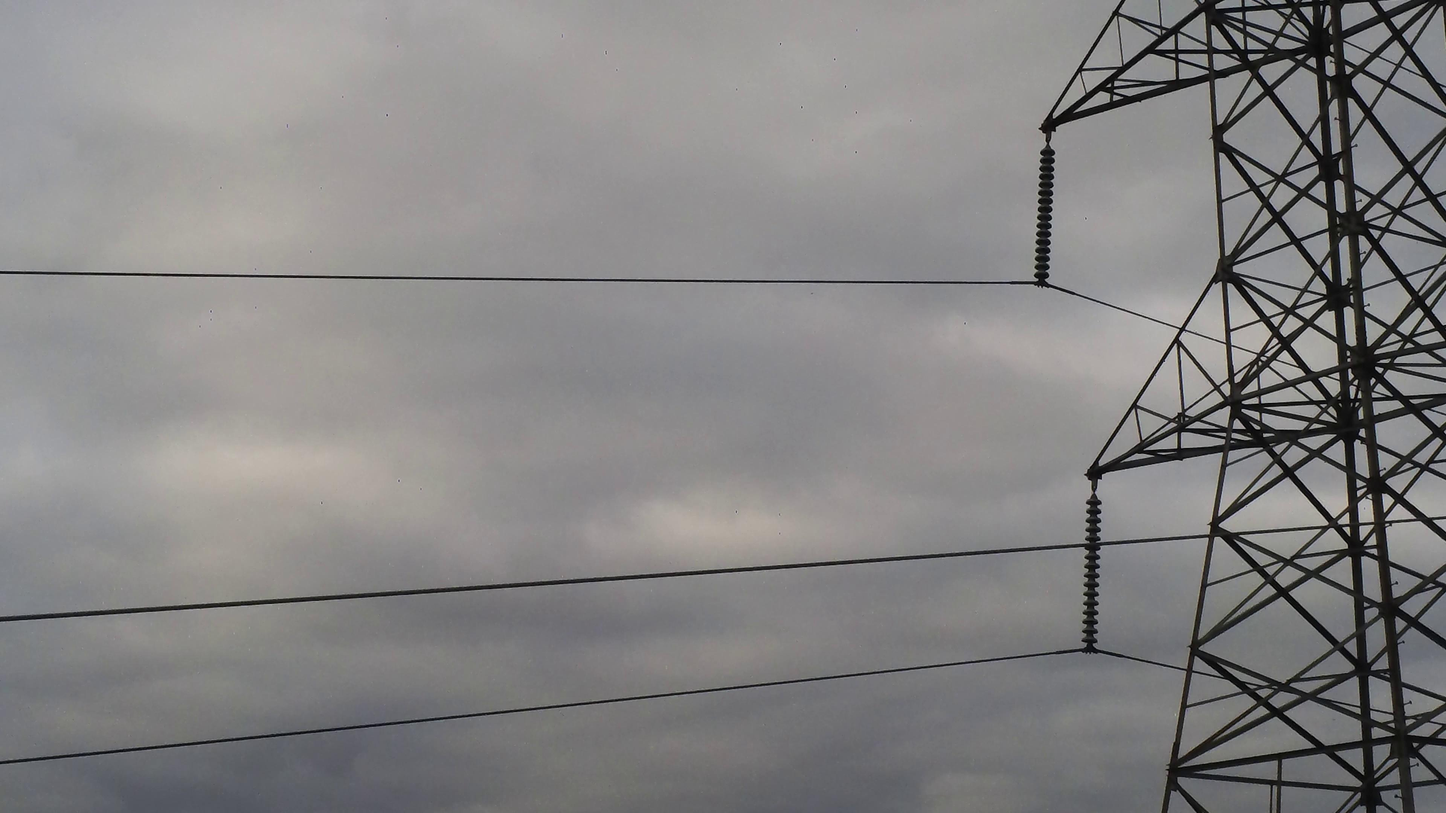power_tower: (1033, 0, 1445, 812)
